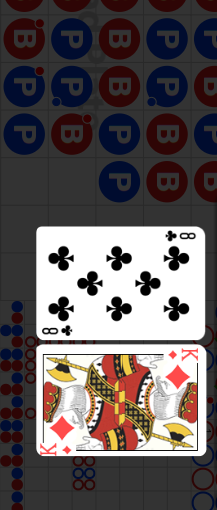8C: (163, 229, 197, 244)
KD: (38, 443, 73, 457)
